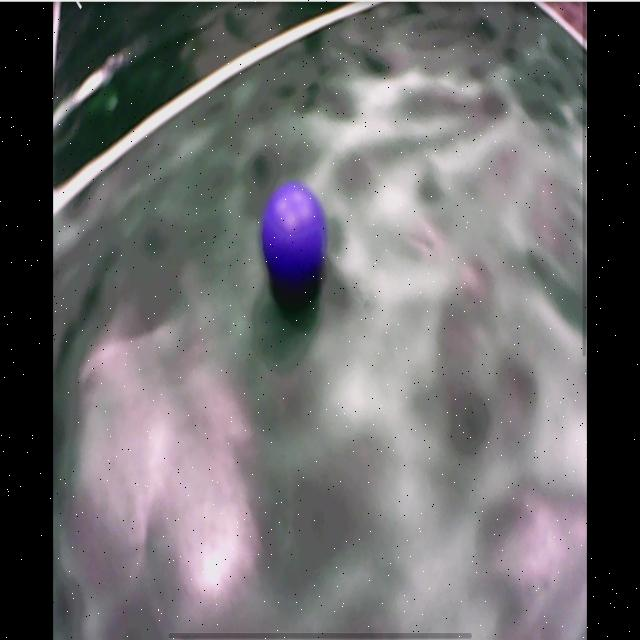ball: (264, 184, 327, 282)
